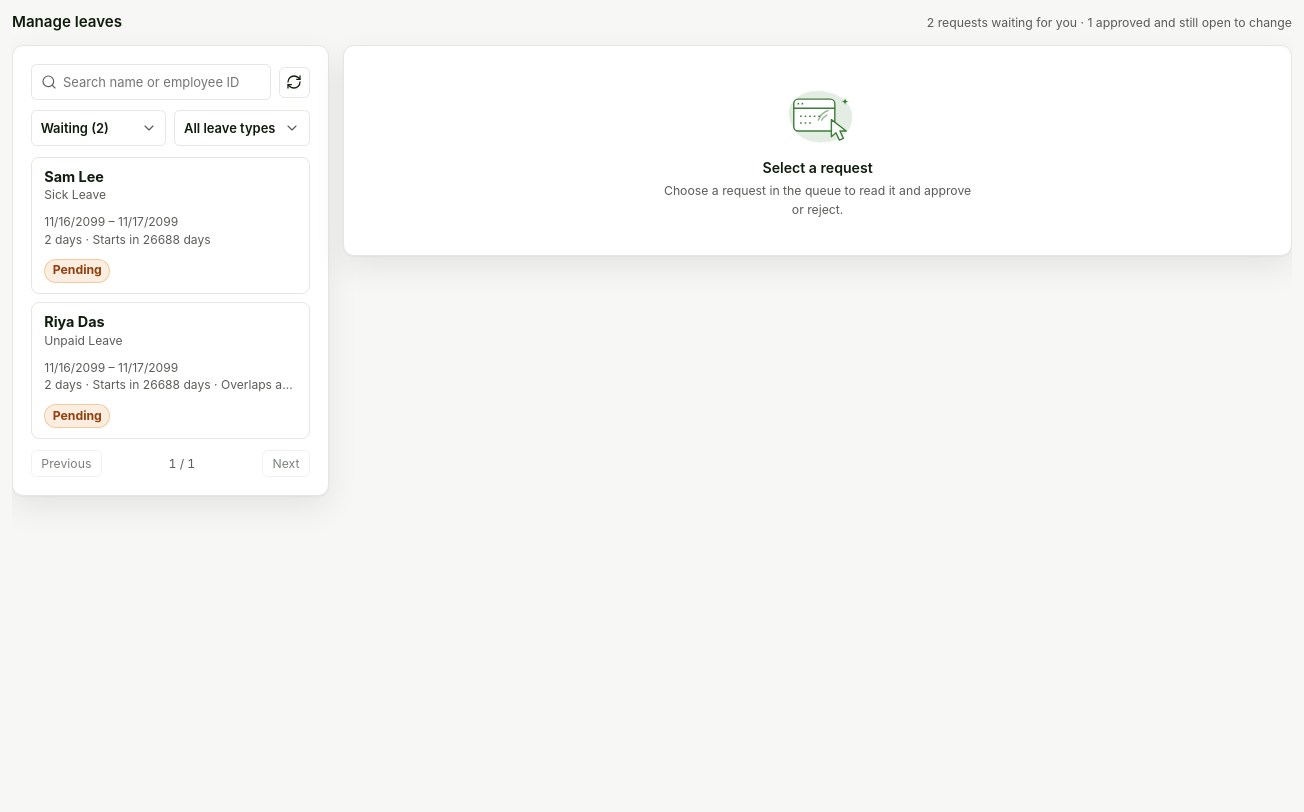
Test: LeaveApprovalWorkspace › blocks acting on a recalled request and refreshes the queue
Step 1. Click the text "Sam Lee" → (74, 176), box top-left (44, 168), bottom-right (104, 185)
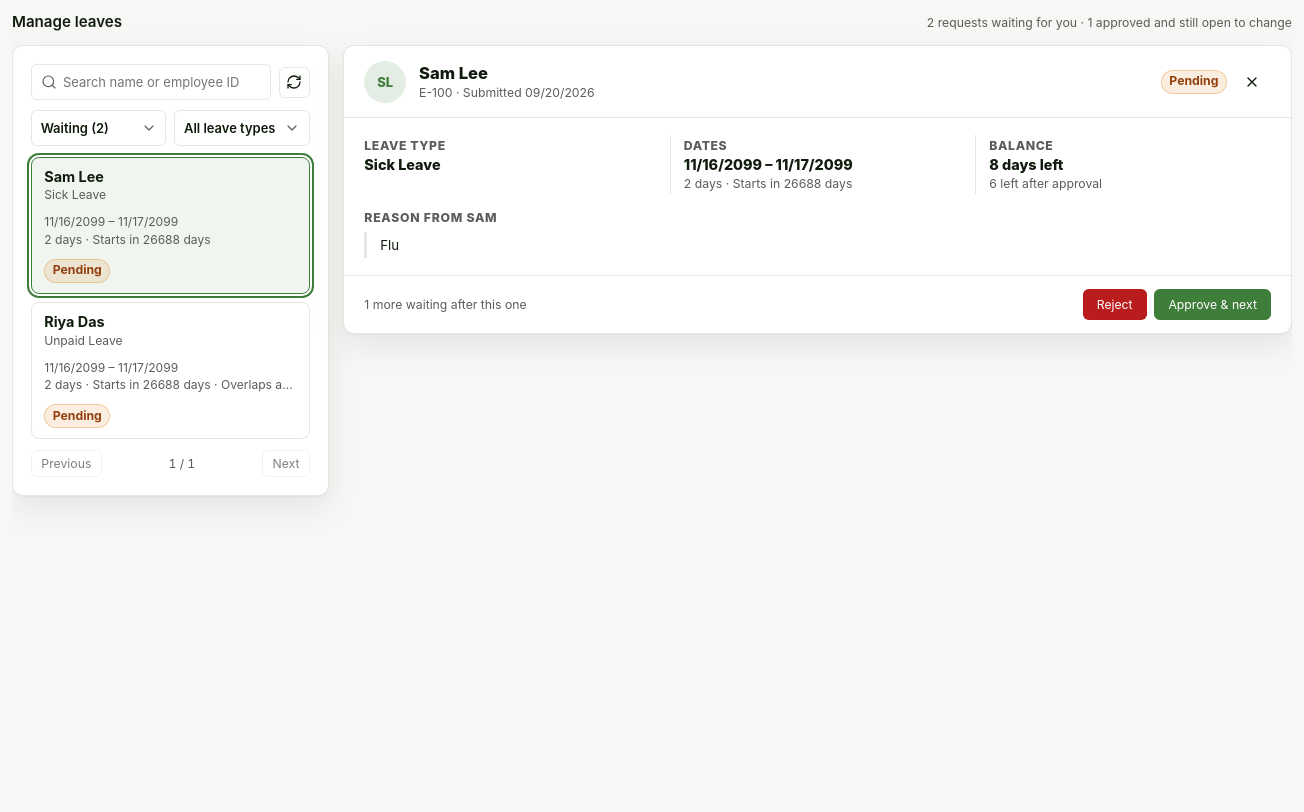
Step 2. Click the button "Approve & next" → (1213, 305), box top-left (1154, 289), bottom-right (1271, 320)
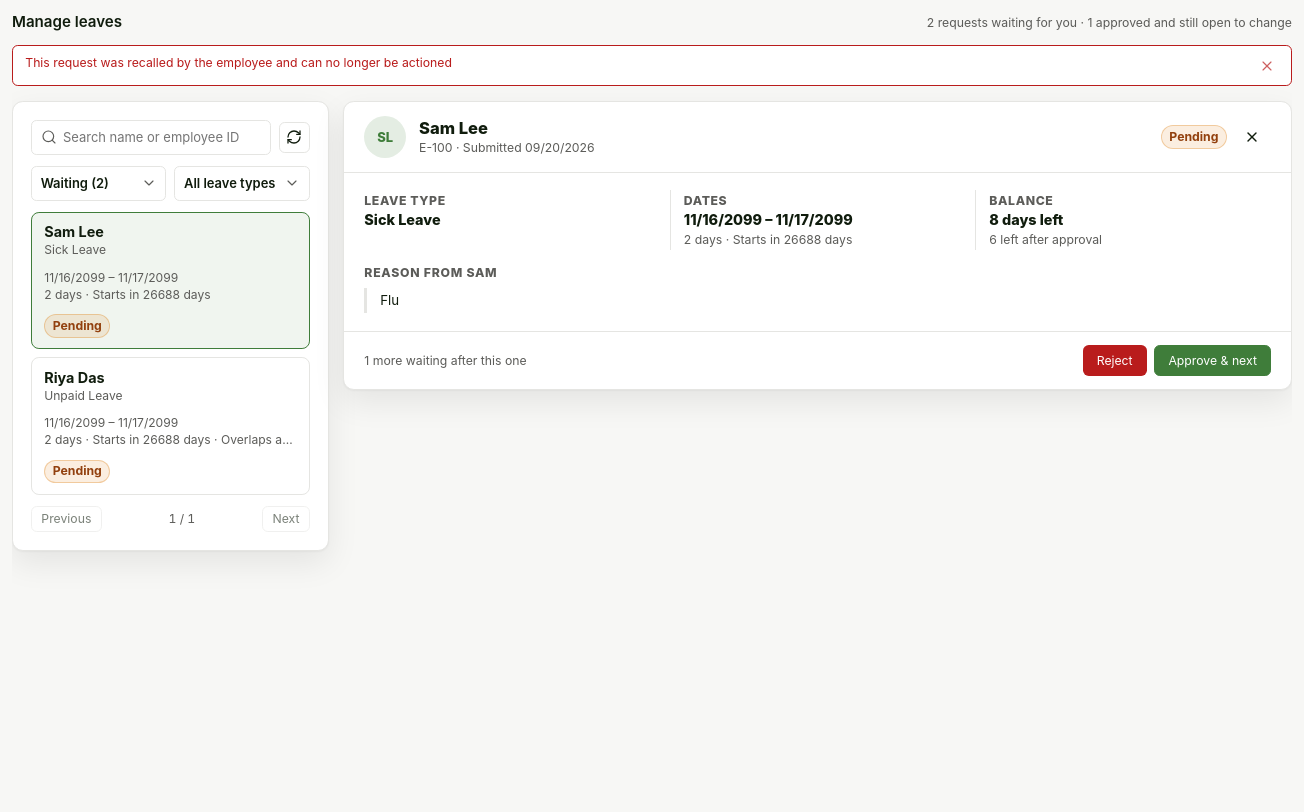
Expected: the message shows "recalled", top-left (25, 55), bottom-right (452, 70)
